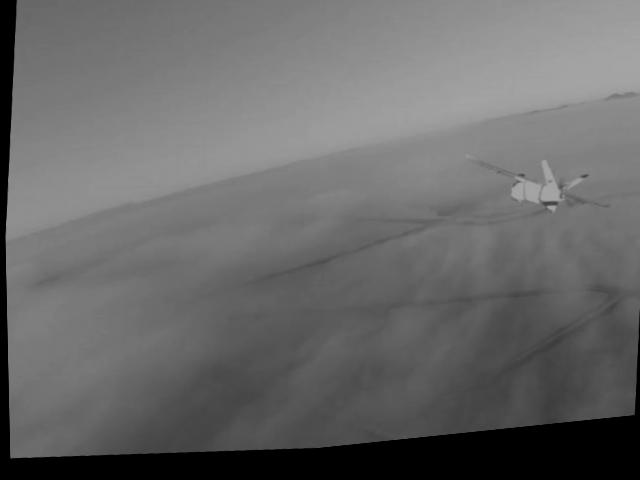hedef: (460, 157, 611, 246)
